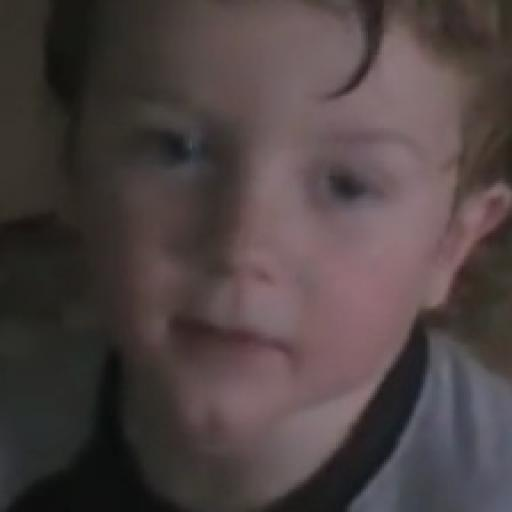Autism: (46, 8, 512, 490)
